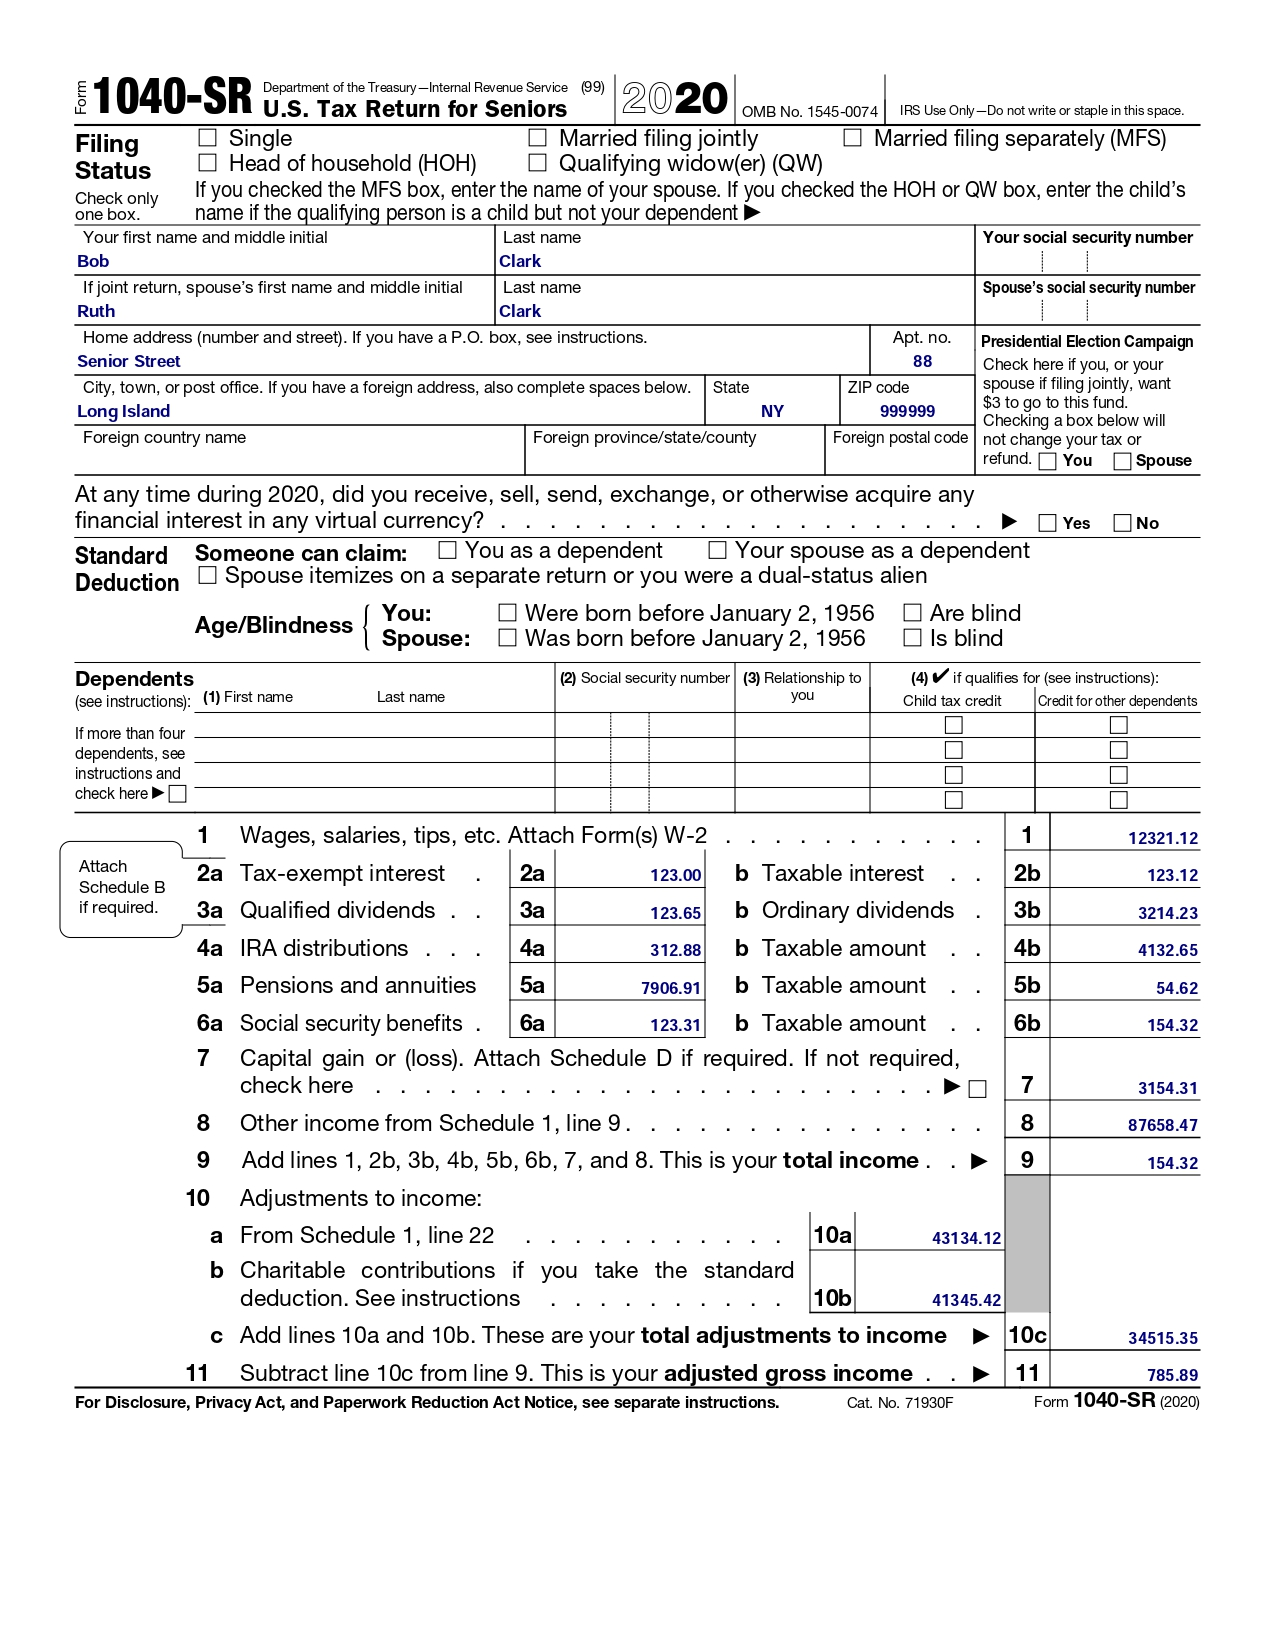form: (67, 66, 1211, 485)
table: (179, 818, 1225, 1390), (58, 658, 1233, 812)
